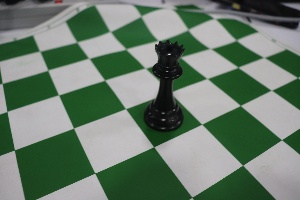black_queen: (134, 26, 189, 135)
